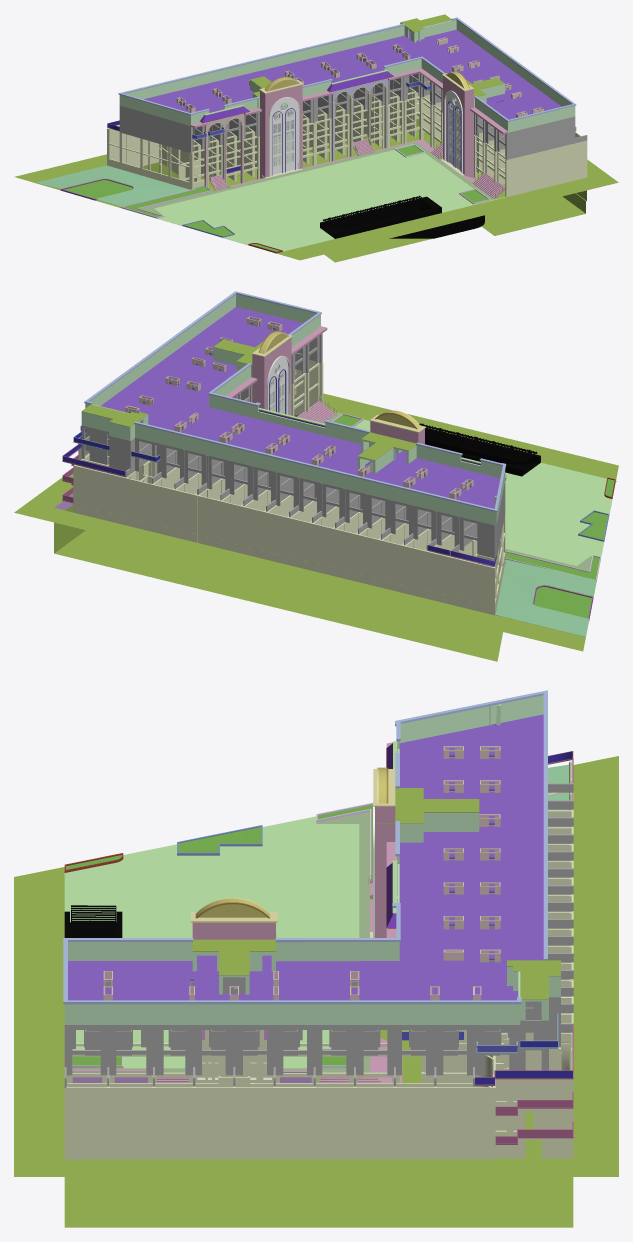
The model's file is London_Square.glb.
3 views of the same model, one above another, from view 1: azimuth 30°, elevation 25°; view 2: azimuth 150°, elevation 25°; view 3: azimuth 270°, elevation 25° (orthographic). The views are drawn at different scales.
Parts seen in each view (by area): view 1: Line2871, Plane005, Object096, Line2132553227, Box2131643579, Box2131643578, Box2131643580, Line3231, Line3258, Line2872, Object087, Line2132553253 (+20 smaller); view 2: Plane005, Object096, Box2131643580, Line2132553227, Box2131643579, Line3231, Line2871, Line3258, Box2131643578, Line2872, Object087, Box2131643665 (+10 smaller); view 3: Plane005, Object096, Line2871, Line2132553227, Box2131643580, Box2131643579, Line3231, Box2131643578, Line3258, Object087, Line2132553237, Box2131643665 (+7 smaller).
Part boxes in pixels (box(x1,y1,x2,y2)): Line2871: box(154, 149, 505, 251); Plane005: box(14, 119, 618, 262); Object096: box(144, 29, 561, 119); Line2132553227: box(119, 20, 575, 132); Box2131643579: box(107, 92, 587, 190); Box2131643578: box(107, 103, 587, 198); Box2131643580: box(107, 81, 587, 175); Line3231: box(119, 75, 587, 159); Line3258: box(119, 50, 575, 146); Line2872: box(35, 165, 189, 206); Object087: box(118, 17, 576, 121); Line2132553253: box(269, 97, 299, 176); Plane005: box(14, 393, 618, 661); Object096: box(100, 307, 500, 508); Box2131643580: box(73, 360, 505, 587); Line2132553227: box(81, 294, 505, 525); Box2131643579: box(73, 376, 505, 607); Line3231: box(81, 343, 505, 559); Line2871: box(335, 412, 612, 566); Line3258: box(81, 323, 505, 542); Box2131643578: box(73, 395, 505, 615); Line2872: box(495, 559, 596, 636); Object087: box(84, 291, 506, 512); Box2131643665: box(125, 316, 473, 499); Plane005: box(14, 756, 618, 1227); Object096: box(68, 714, 543, 1000); Line2871: box(64, 816, 359, 1068); Line2132553227: box(64, 695, 560, 1024); Box2131643580: box(64, 761, 573, 1117); Box2131643579: box(64, 792, 573, 1146); Line3231: box(64, 783, 573, 1087); Box2131643578: box(64, 1068, 573, 1159); Line3258: box(64, 747, 560, 1050); Object087: box(63, 690, 547, 1004); Line2132553237: box(192, 788, 560, 999); Box2131643665: box(103, 716, 500, 1000).
Size of the model in its own units: 113 by 31.11 by 68.85.
